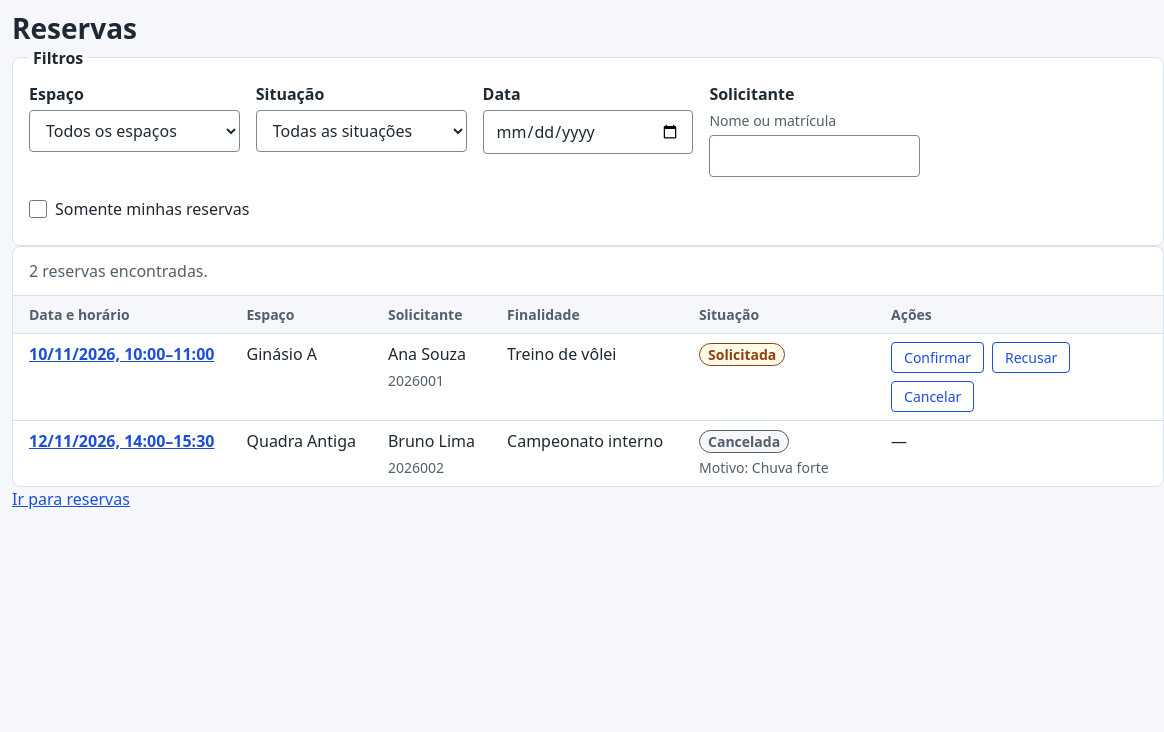
Test case: PaginaReservas › o filtro de situação grava na URL e consulta com ele
Select "Confirmada" in the dropdown labelled "Situação" at (361, 131), box [256,110,467,152]
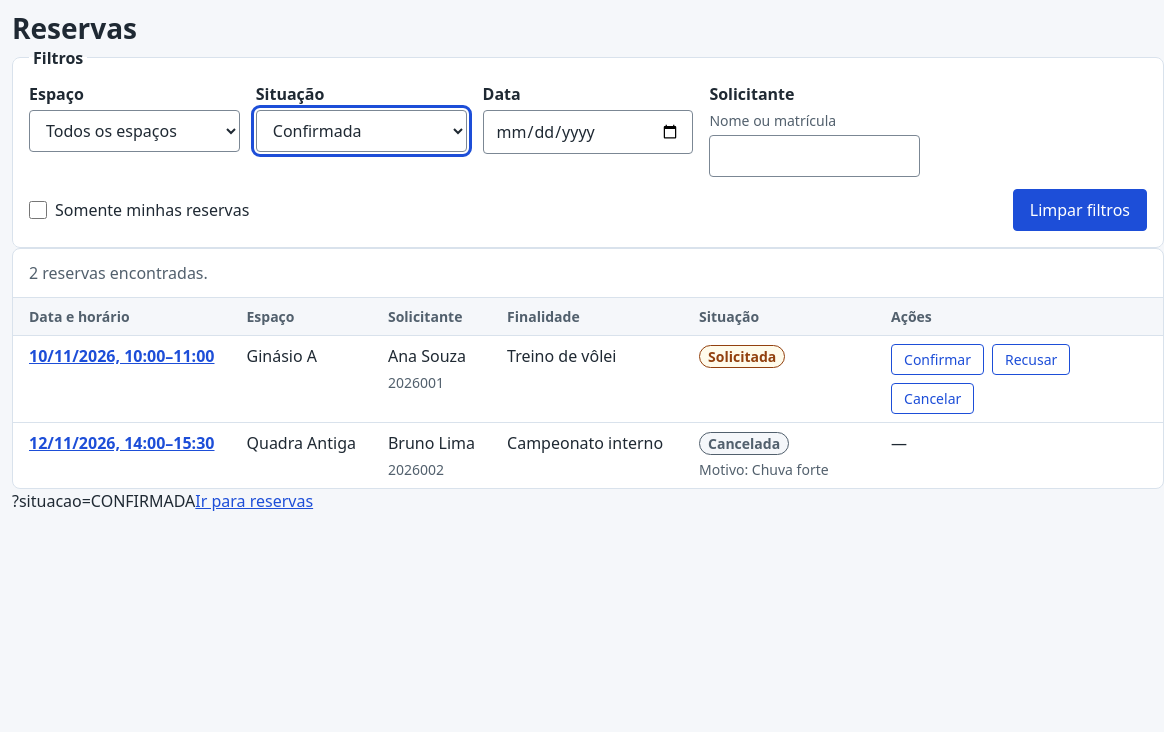
Result: the text with test id "busca" reads "?situacao=CONFIRMADA" at [12,490,195,512]
